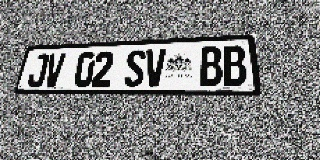0: (73, 52, 96, 87)
2: (91, 51, 114, 87)
B: (222, 45, 248, 86), (200, 46, 223, 86)
J: (26, 54, 50, 87)
S: (124, 50, 146, 87)
V: (144, 49, 166, 87), (43, 53, 66, 87)
